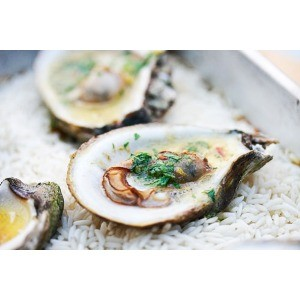oyster_brain food: (85, 135, 248, 216), (38, 58, 158, 111), (6, 165, 51, 243)
